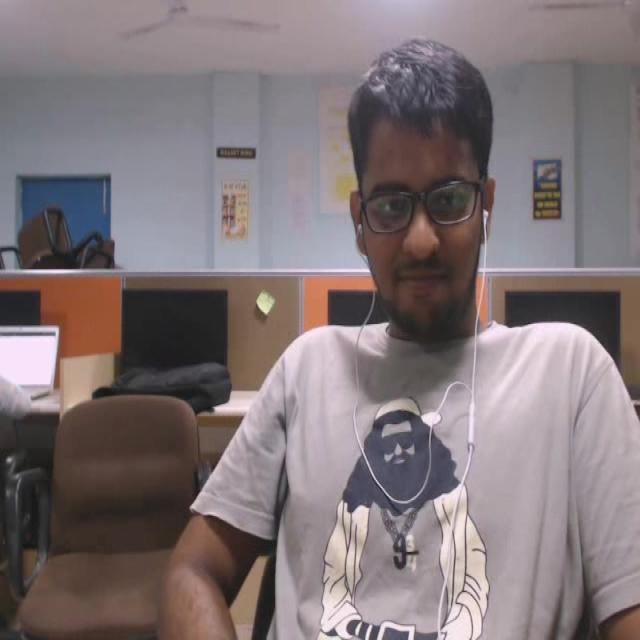Engaged: (322, 32, 530, 393)
